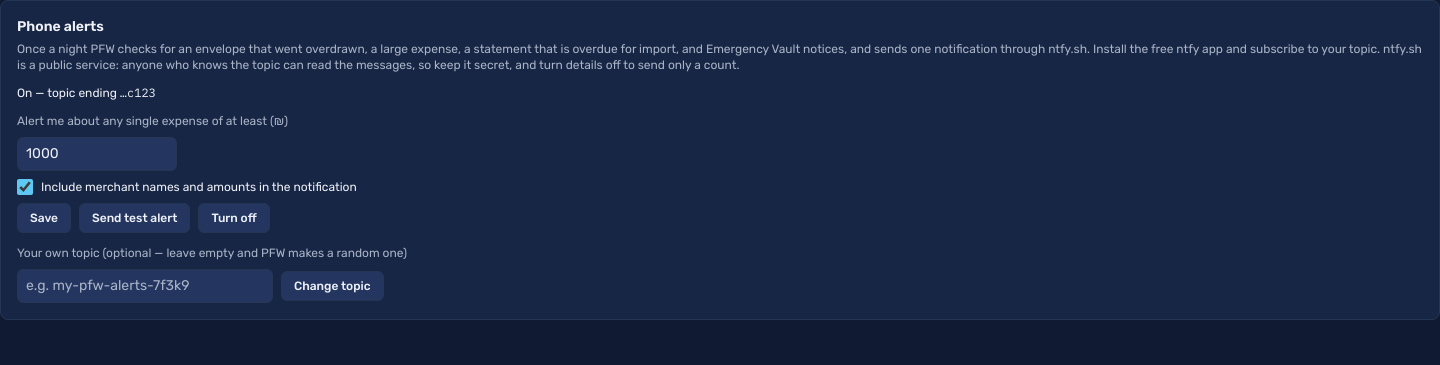
Test: PhoneAlertsPanel › shows ntfy's reason when the test alert fails, and turns alerts off
The width and height of the screenshot is (1440, 365).
Click the button "Send test alert". click: (135, 218)
box: [79,203,190,233]
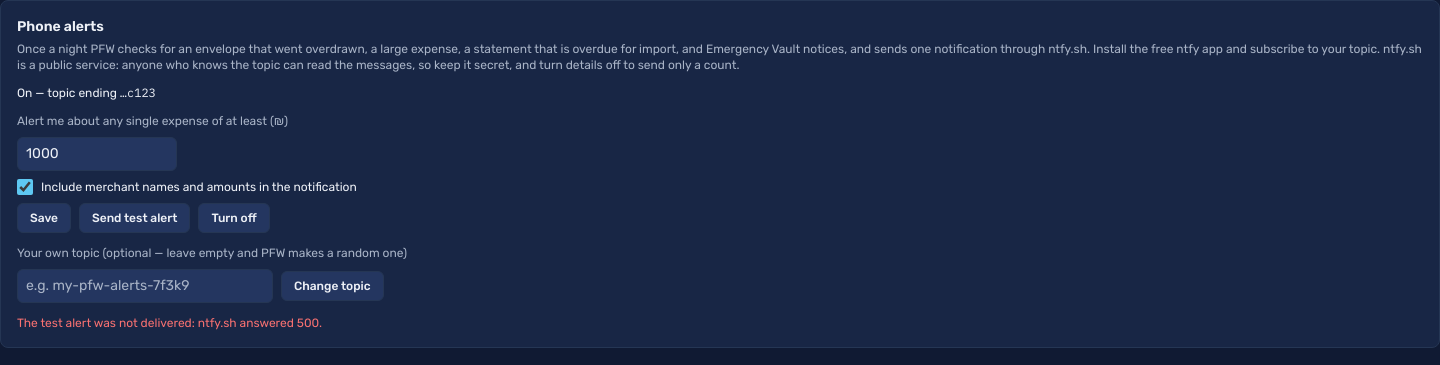
Expected: the message shows "ntfy.sh answered 500", [17,316,322,330]
Click the button "Turn off". click: (234, 218)
box: [198,203,270,233]
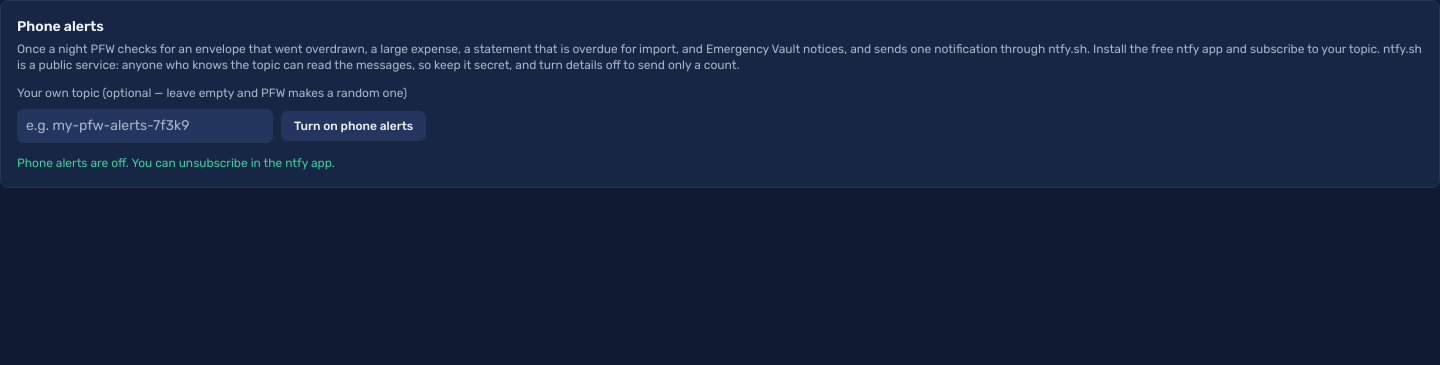
Expected: the button "Turn on phone alerts" is shown, [281,111,426,141]
